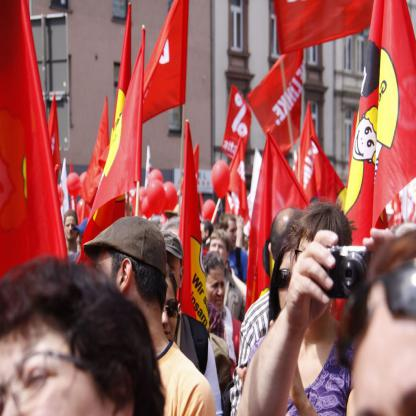Camera: (323, 246, 374, 300)
